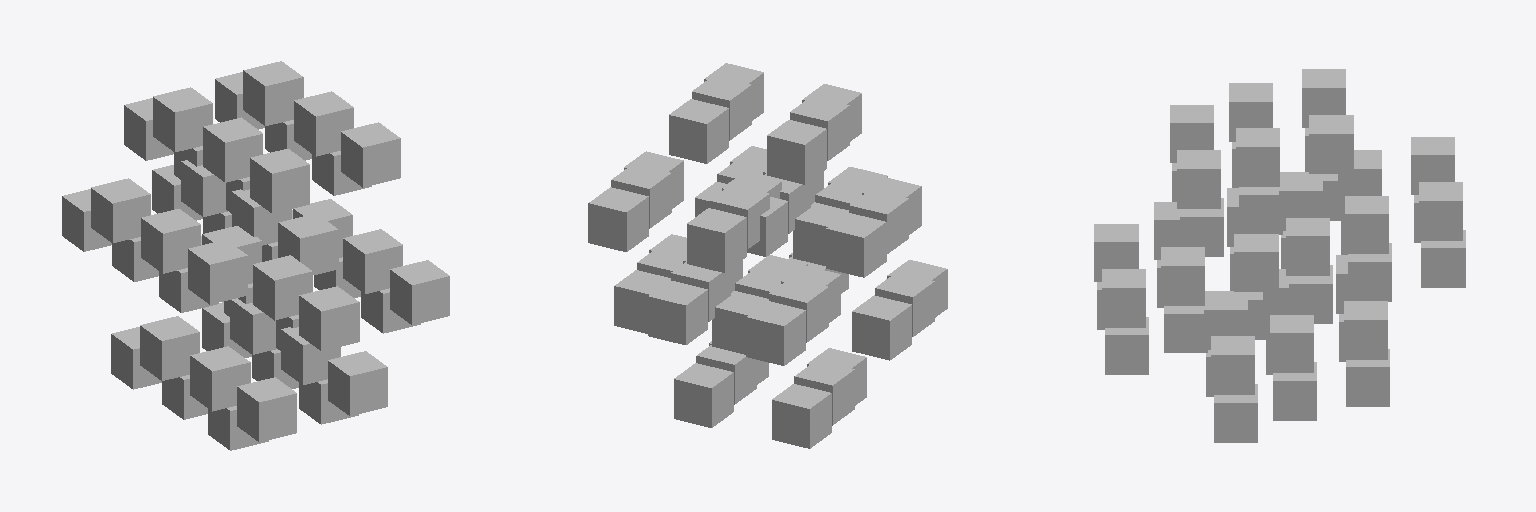
Rendered from testing2.obj.
3 views of the same model, side by side, from view 1: azimuth 30°, elevation 25°; view 2: azimuth 150°, elevation 25°; view 3: azimuth 270°, elevation 25° (orthographic).
Parts seen in each view (by area): view 1: Cube.028, Cube.031, Cube.025, Cube.046, Cube.034, Cube.037, Cube.040, Cube.032, Cube.035, Cube.041, Cube.047, Cube.039 (+28 smaller); view 2: Cube.008, Cube.047, Cube.017, Cube.020, Cube.011, Cube.023, Cube.041, Cube.014, Cube.035, Cube.032, Cube.002, Cube.005 (+27 smaller); view 3: Cube.032, Cube.026, Cube.001, Cube.002, Cube.008, Cube.024, Cube.025, Cube.030, Cube.031, Cube, Cube.006, Cube.007 (+24 smaller).
Part boxes in pixels (left/top/right/bottom): Cube.028: left=299, top=286, right=359, bottom=350; Cube.031: left=341, top=122, right=400, bottom=187; Cube.025: left=390, top=260, right=449, bottom=324; Cube.046: left=188, top=240, right=247, bottom=304; Cube.034: left=250, top=149, right=309, bottom=213; Cube.037: left=328, top=351, right=387, bottom=415; Cube.040: left=237, top=377, right=296, bottom=441; Cube.032: left=243, top=61, right=303, bottom=125; Cube.035: left=153, top=87, right=212, bottom=151; Cube.041: left=140, top=316, right=199, bottom=380; Cube.047: left=91, top=178, right=150, bottom=243; Cube.039: left=190, top=346, right=250, bottom=411; Cube.008: left=588, top=187, right=648, bottom=251; Cube.047: left=826, top=213, right=886, bottom=277; Cube.017: left=772, top=384, right=831, bottom=448; Cube.020: left=648, top=280, right=707, bottom=344; Cube.011: left=687, top=208, right=746, bottom=272; Cube.023: left=746, top=301, right=805, bottom=365; Cube.041: left=852, top=295, right=911, bottom=360; Cube.014: left=674, top=363, right=733, bottom=427; Cube.035: left=767, top=120, right=826, bottom=184; Cube.032: left=669, top=99, right=728, bottom=163; Cube.002: left=614, top=270, right=670, bottom=333; Cube.005: left=712, top=291, right=768, bottom=354; Cube.032: left=1309, top=115, right=1353, bottom=173; Cube.026: left=1234, top=234, right=1278, bottom=291; Cube.001: left=1211, top=336, right=1254, bottom=394; Cube.002: left=1344, top=301, right=1387, bottom=359; Cube.008: left=1419, top=182, right=1462, bottom=240; Cube.024: left=1161, top=247, right=1204, bottom=305; Cube.025: left=1102, top=269, right=1145, bottom=327; Cube.030: left=1236, top=128, right=1279, bottom=186; Cube.031: left=1177, top=150, right=1220, bottom=208; Cube: left=1270, top=315, right=1313, bottom=372; Cube.006: left=1345, top=196, right=1388, bottom=253; Cube.007: left=1286, top=218, right=1329, bottom=275.
Size of the model in its own units: 13.71 by 15.29 by 16.82.